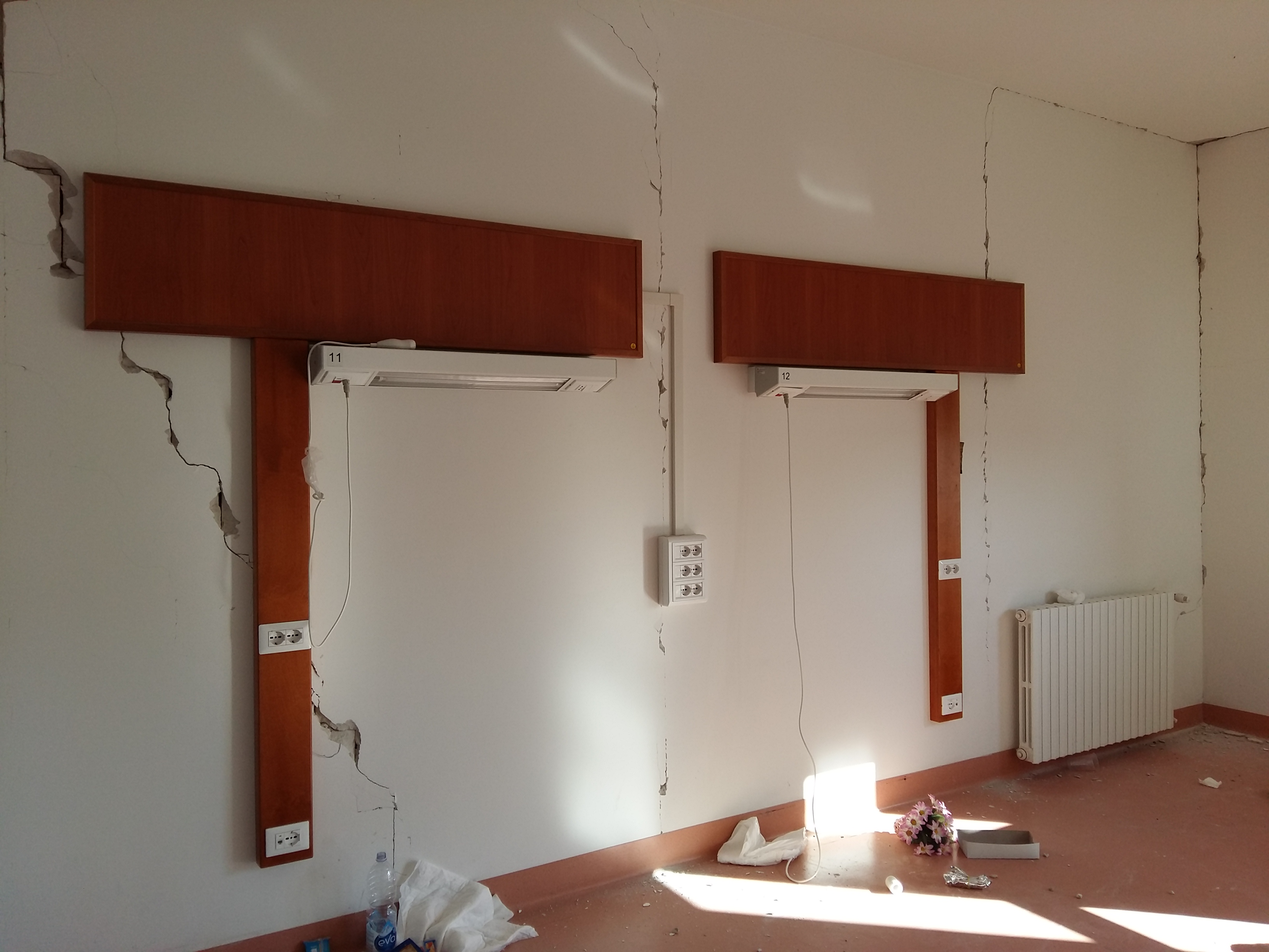Crack: (3, 132, 428, 892), (965, 67, 1266, 683), (554, 4, 697, 867)
